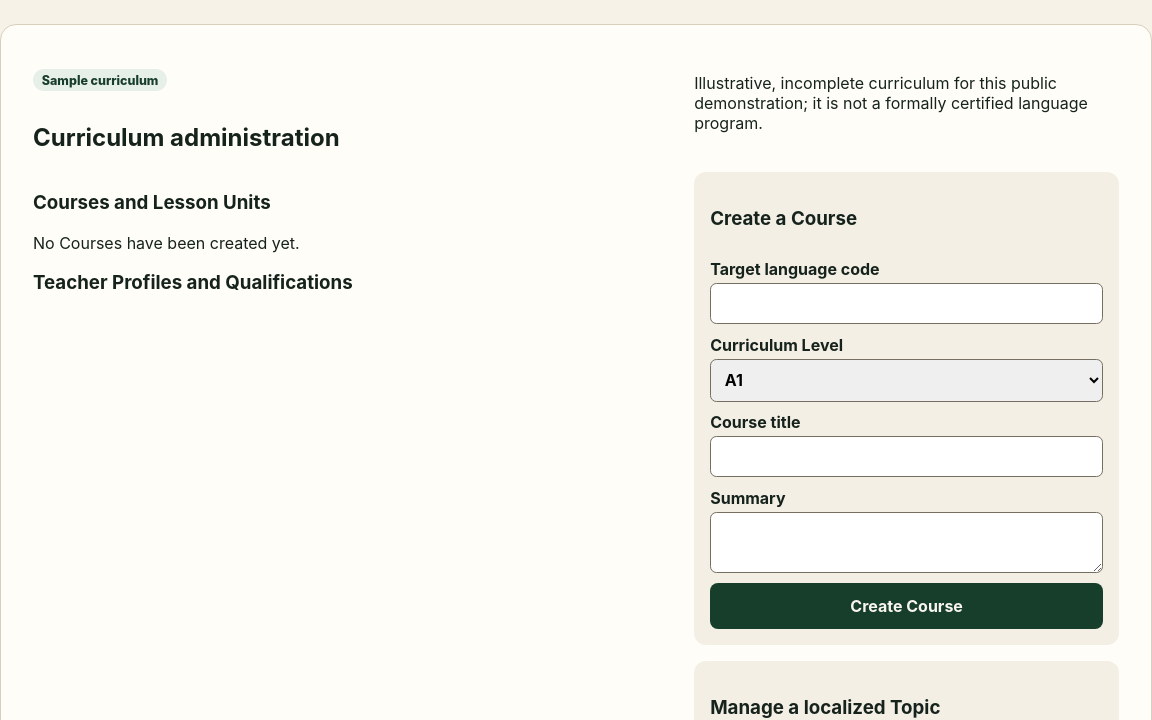
Test: Platform Administrator curriculum journey › creates a Course through the administration form
The width and height of the screenshot is (1152, 720).
Check: the heading "Curriculum administration" is shown, box x1=33 y1=123 x2=340 y2=152
Type "en" into the field labelled "Target language code" at (907, 304), box x1=710 y1=283 x2=1103 y2=324
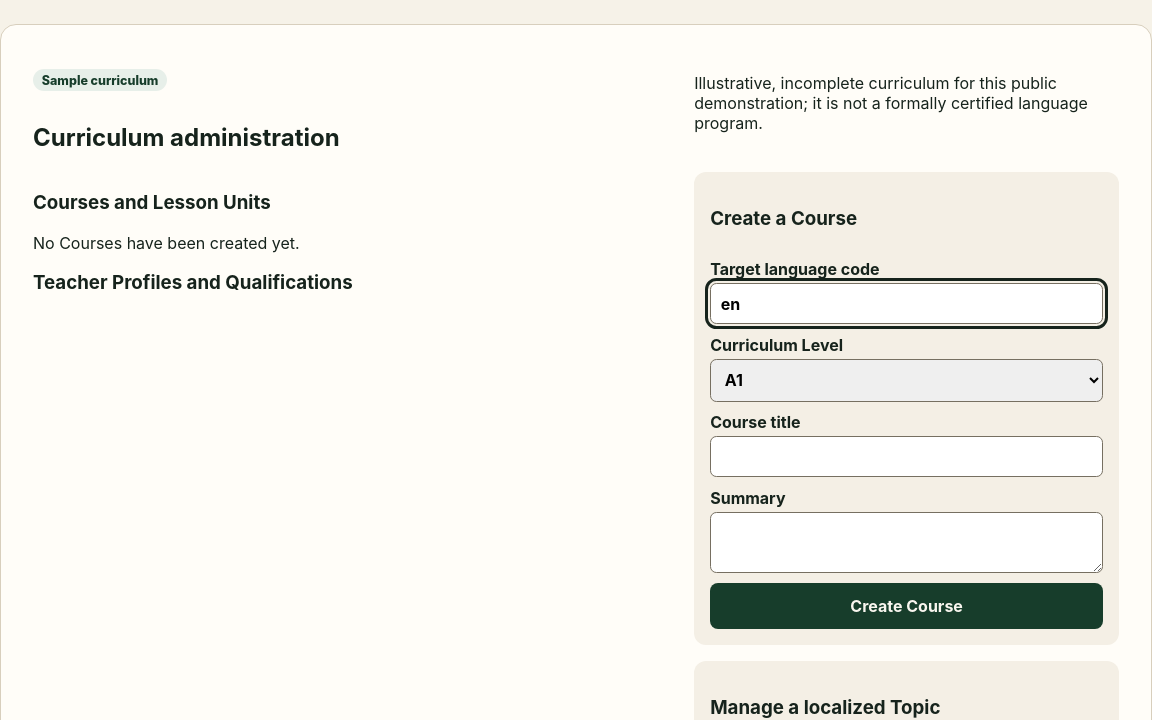
Type "Everyday English Foundations" into the field labelled "Course title" at (907, 457), box x1=710 y1=436 x2=1103 y2=477
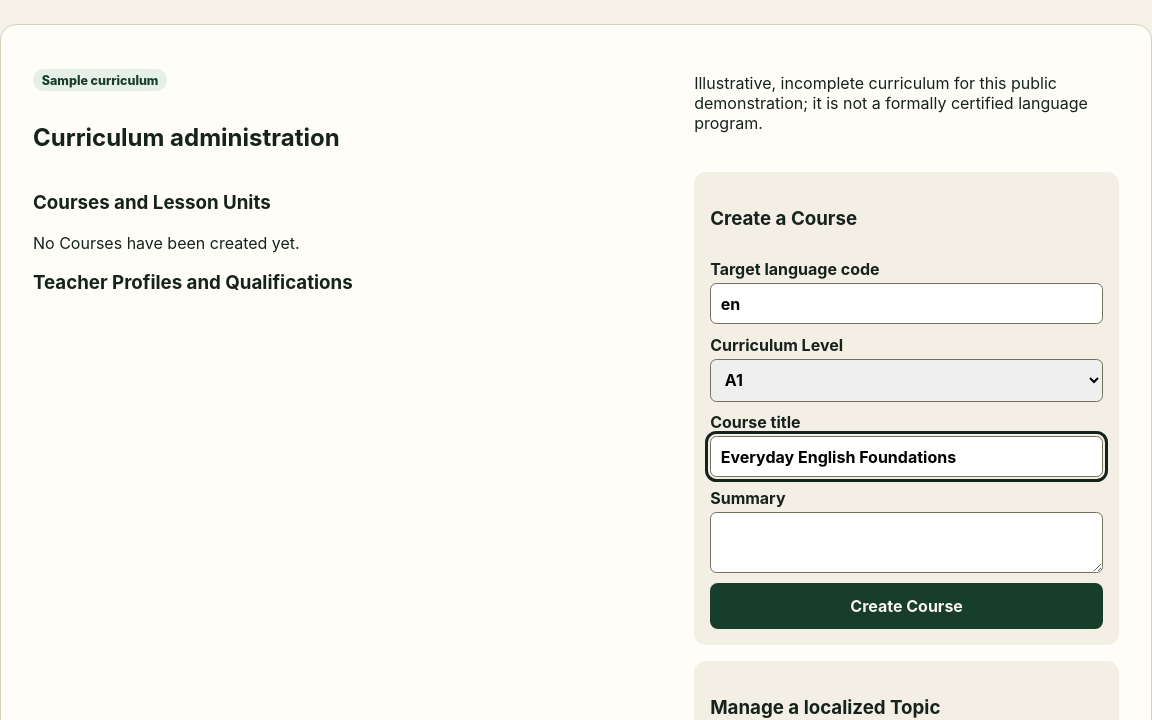
Type "Build confidence in practical exchanges." into the text box labelled "Summary" at (907, 542), box x1=710 y1=512 x2=1103 y2=573
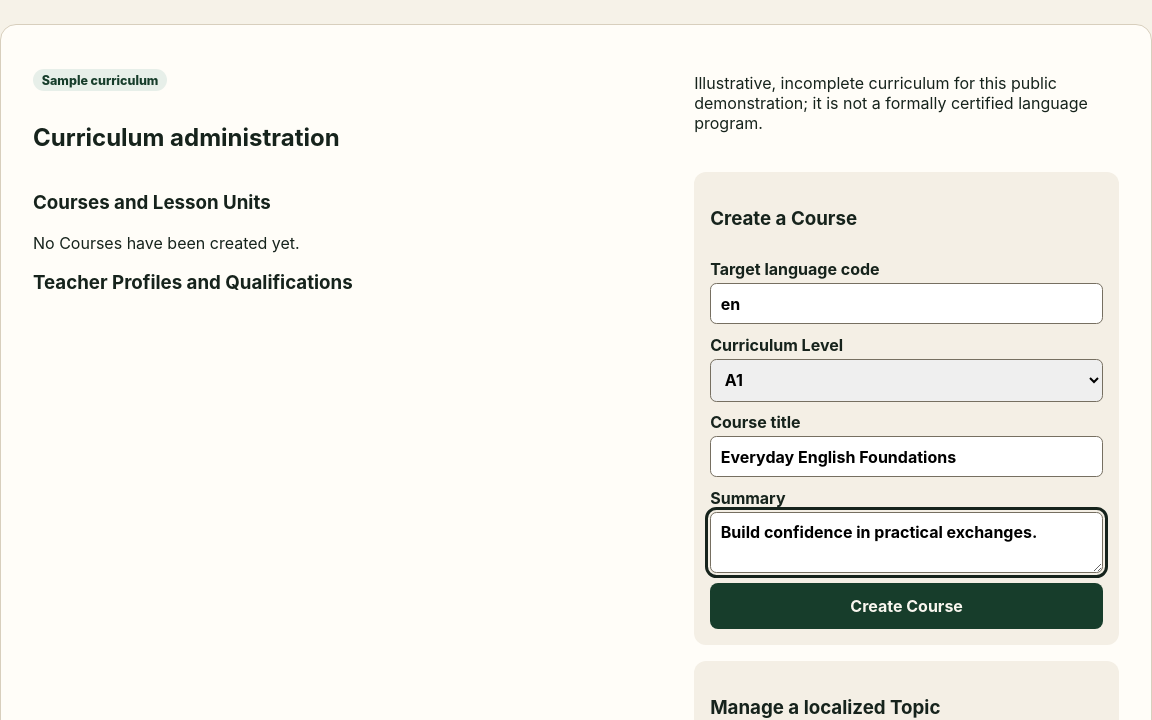
Click the button "Create Course" at (907, 606), box x1=710 y1=583 x2=1103 y2=629
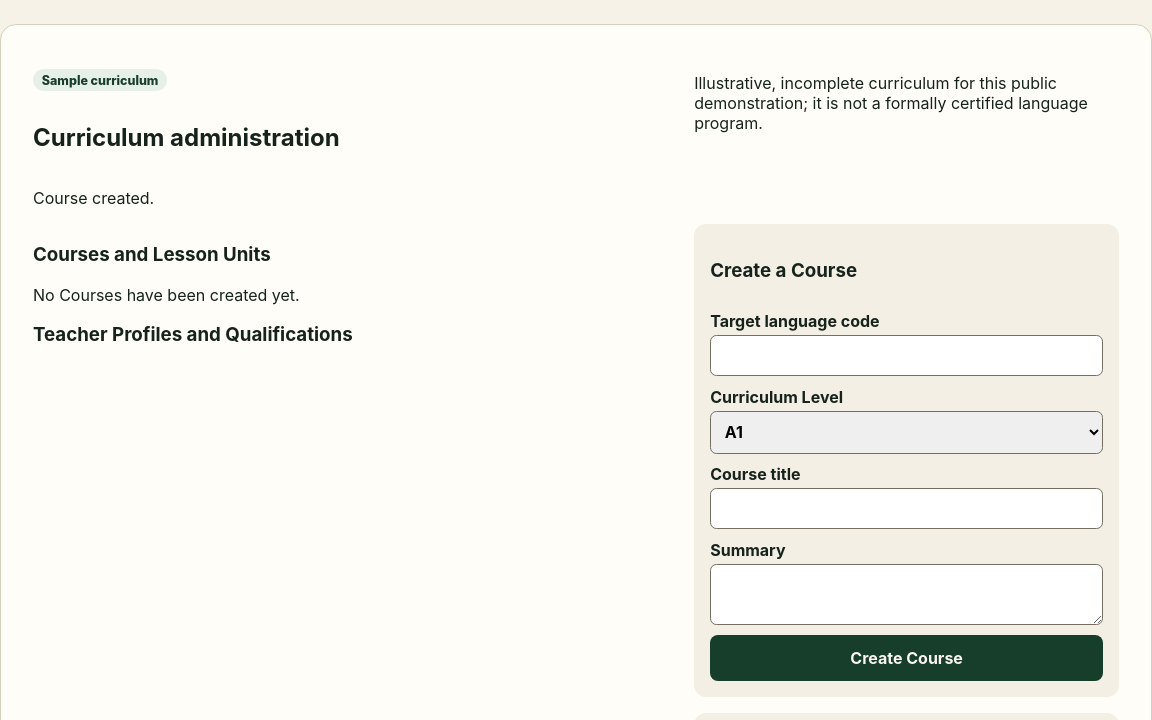
Check: the text "Course created." is shown, box x1=33 y1=188 x2=154 y2=208
